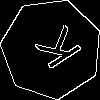K: (26, 24, 83, 77)
